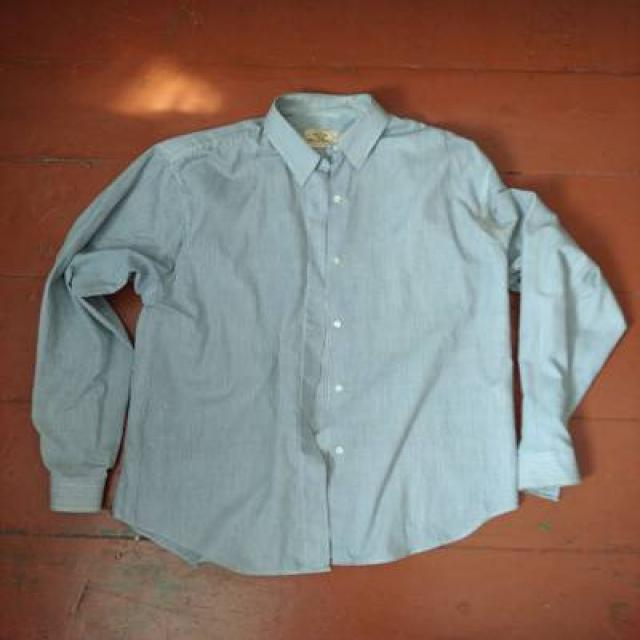Clothes -Biodegradable-: (35, 91, 633, 570)
